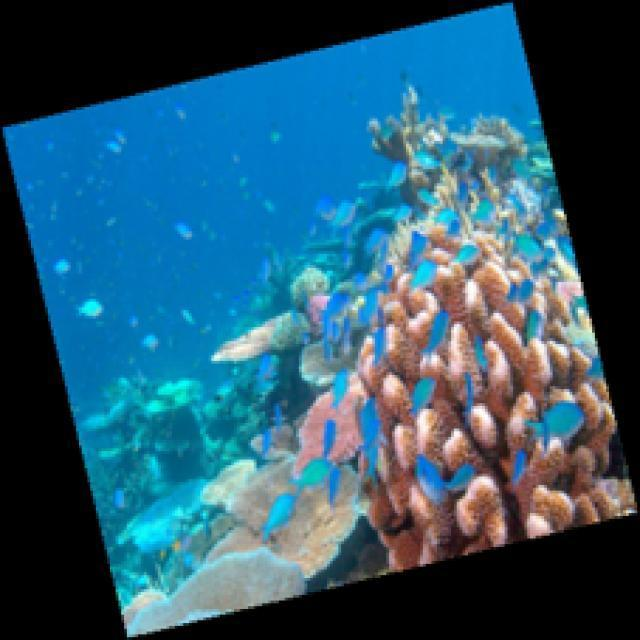Bleached: (126, 546, 312, 640)
Healthy: (357, 226, 629, 580), (201, 456, 361, 581), (292, 389, 362, 474), (202, 457, 258, 506), (215, 322, 277, 366), (120, 585, 169, 631), (309, 296, 333, 325)
